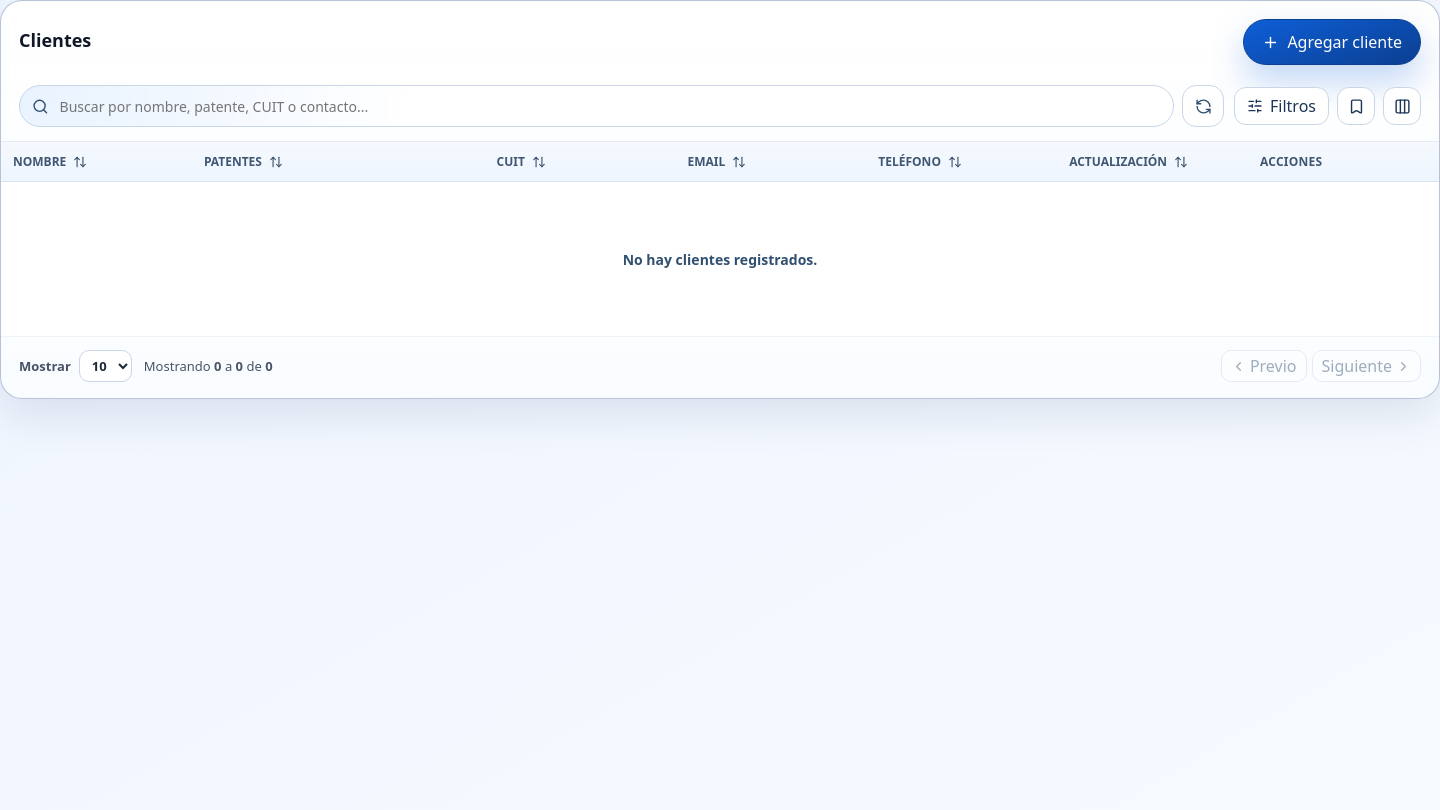
Test: diálogo de clientes › cierra con el fondo o con la cruz, sin botón Cancelar
Click the button "Agregar cliente" at coordinates (1332, 42), box [1243,19,1421,65]
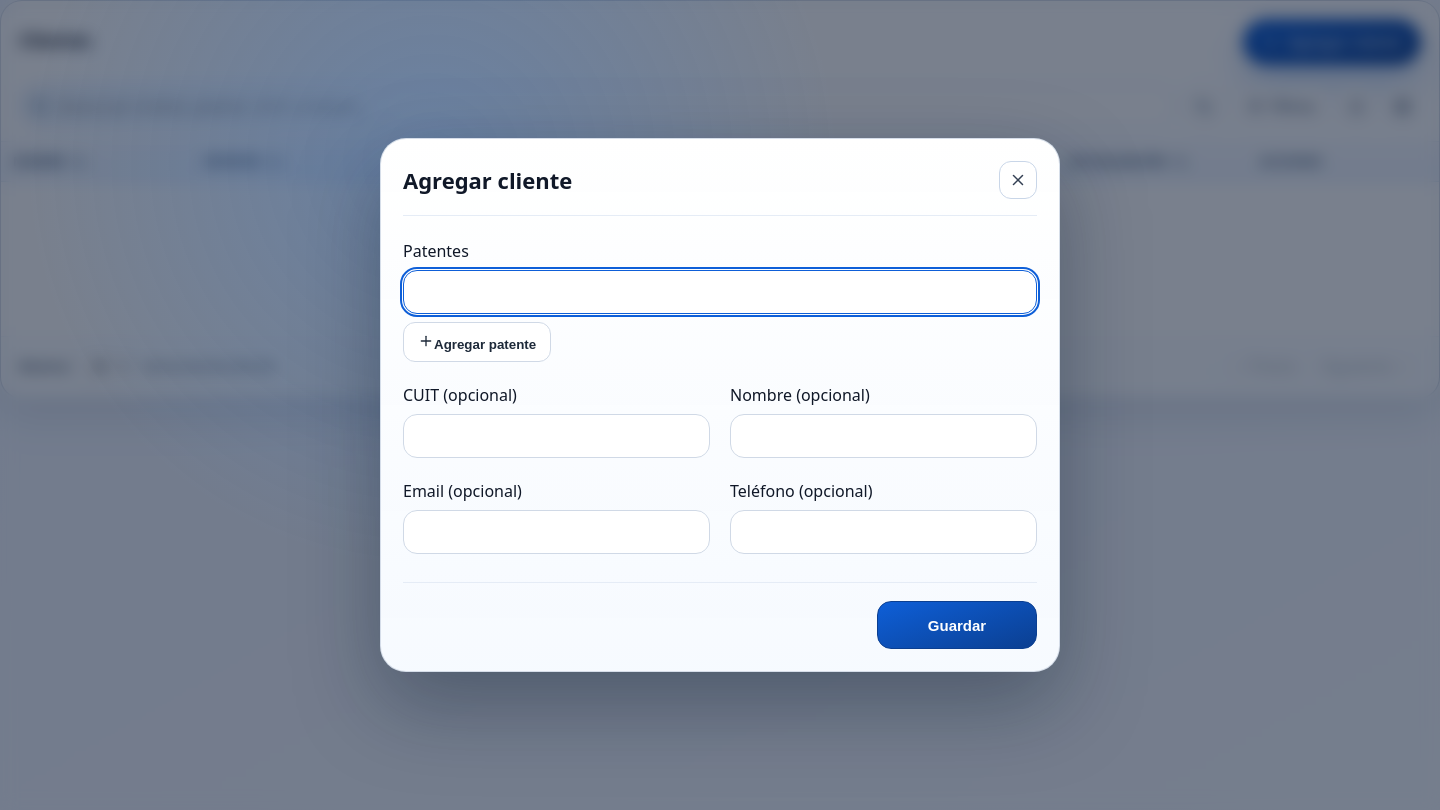
Expected: the dialog is shown, [380,138,1060,672]
Press the mouse on the element with class "rate-dialog-backdrop" at coordinates (720, 405), box [0,0,1439,809]
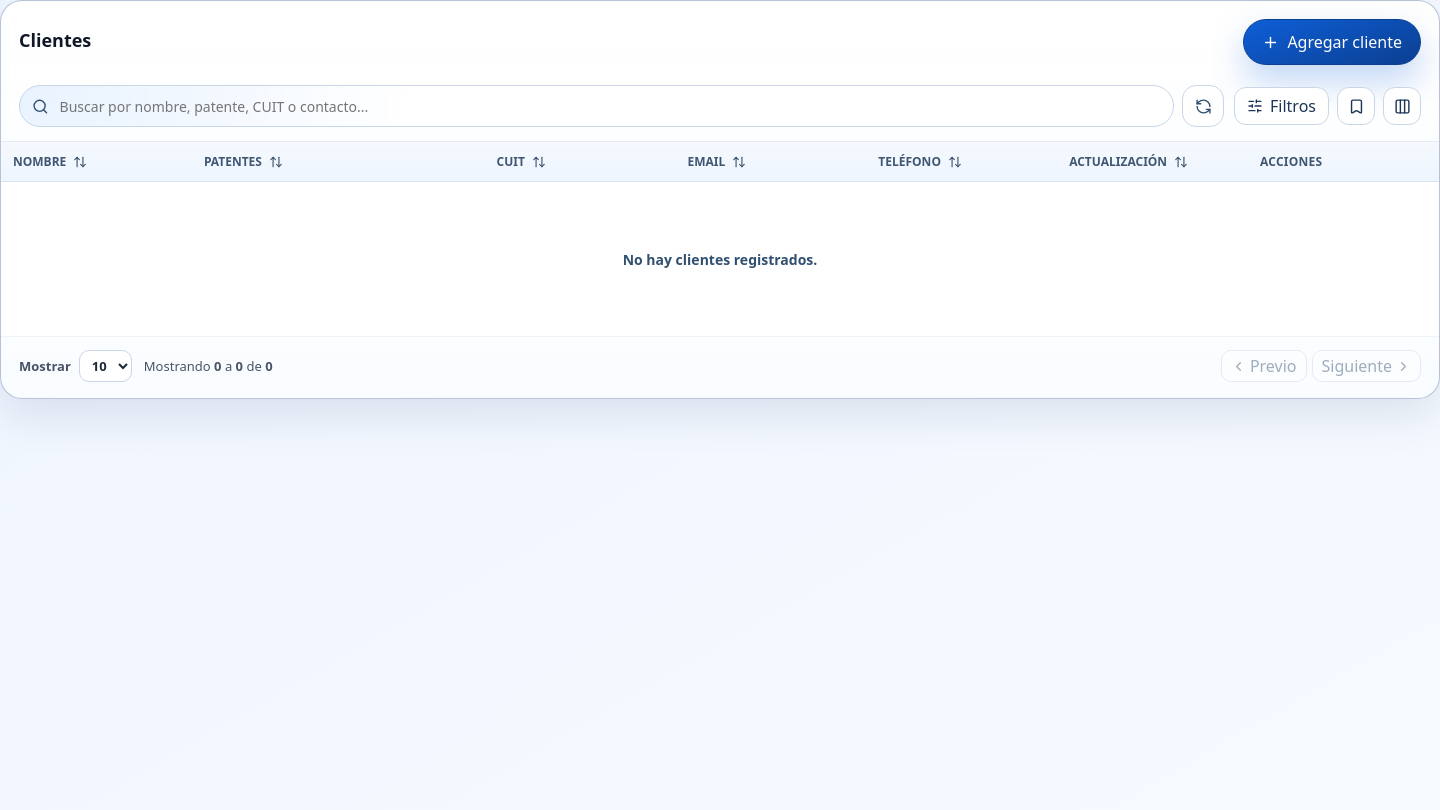
Expected: the dialog is gone
Click the button "Agregar cliente" at coordinates (1332, 42), box [1243,19,1421,65]
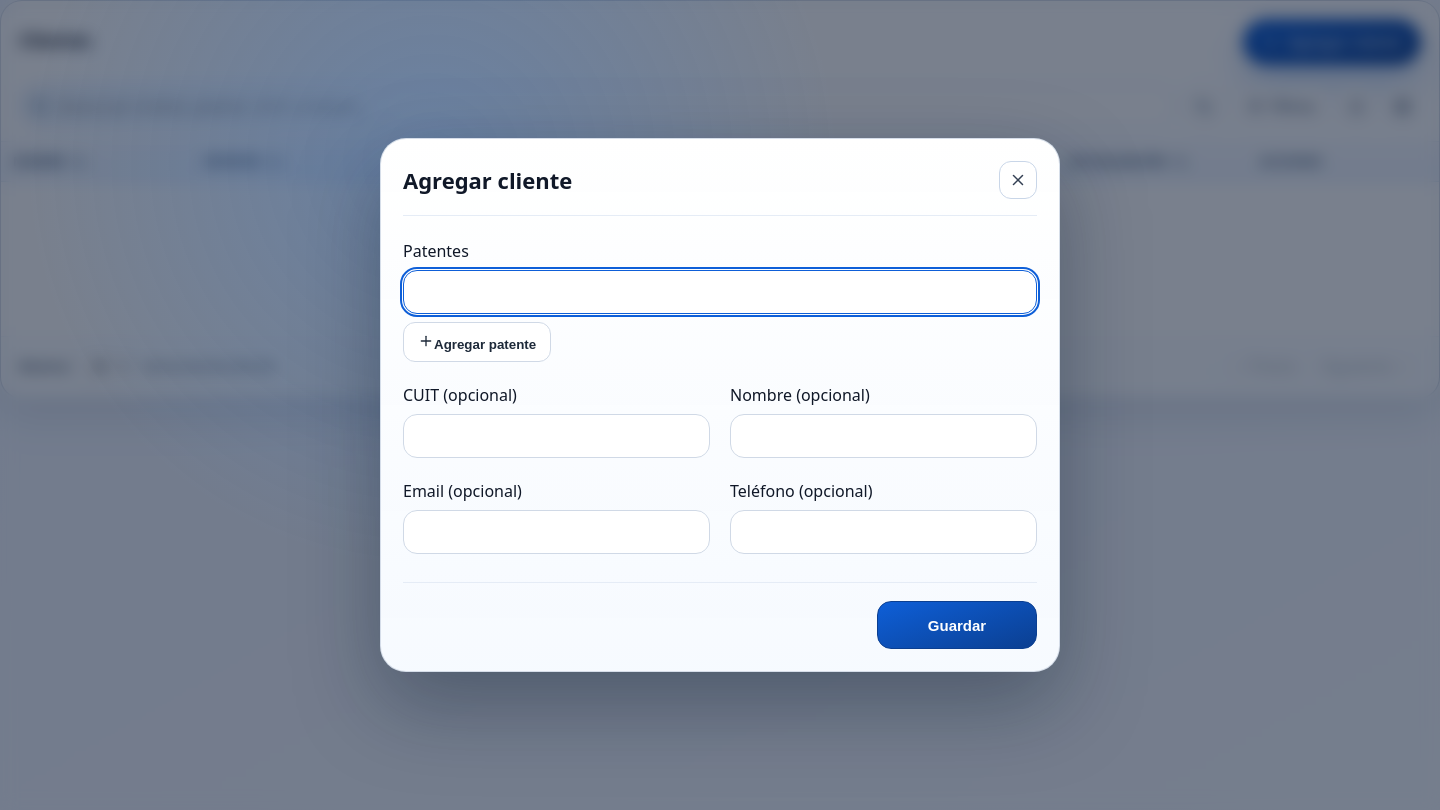
Press the mouse on the dialog with class "clients-dialog" at coordinates (720, 405), box [380,138,1060,672]
Expected: the dialog with class "clients-dialog" is shown, [380,138,1060,672]
Click the button named "Cerrar" at coordinates (1018, 180), box [999,161,1037,199]
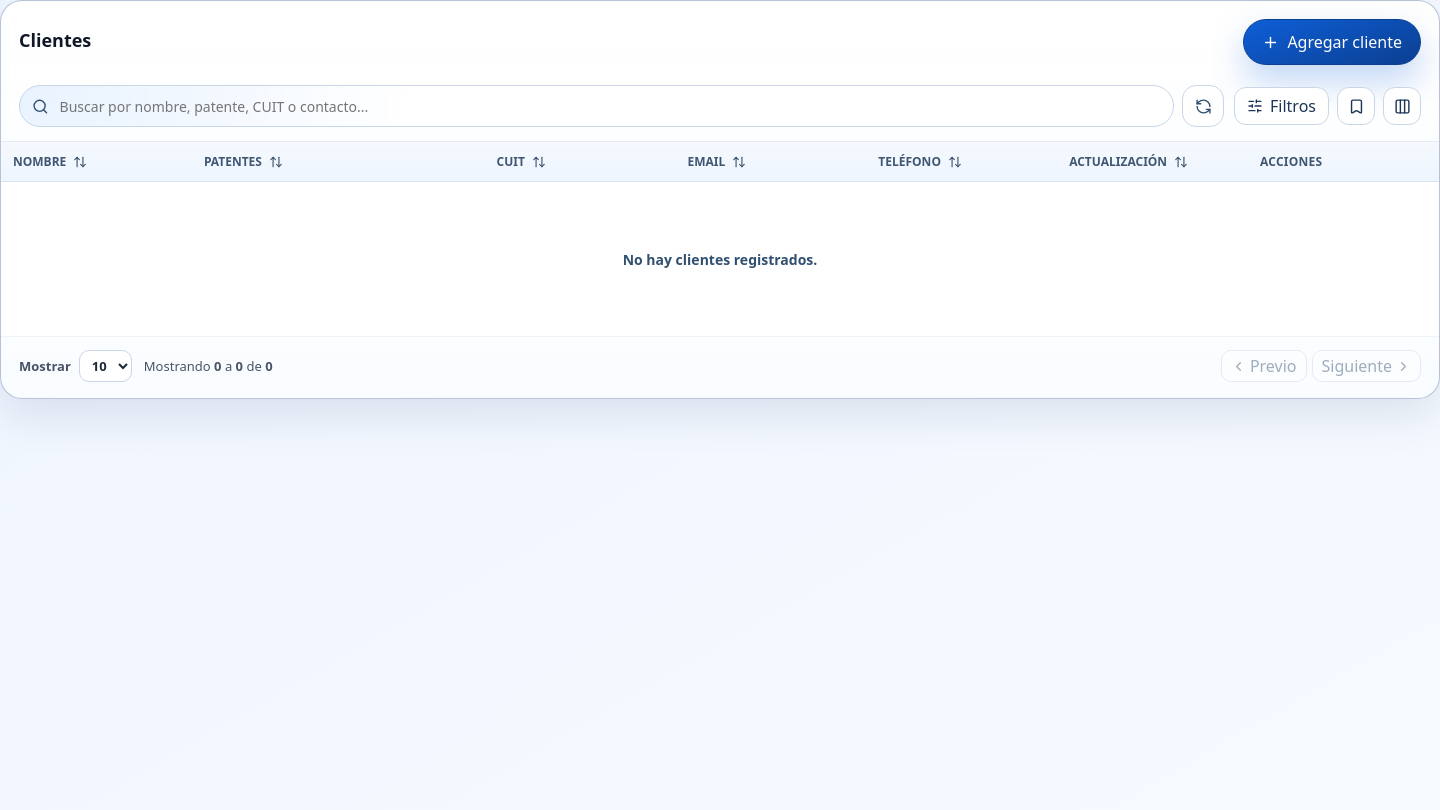
Expected: the dialog is gone
